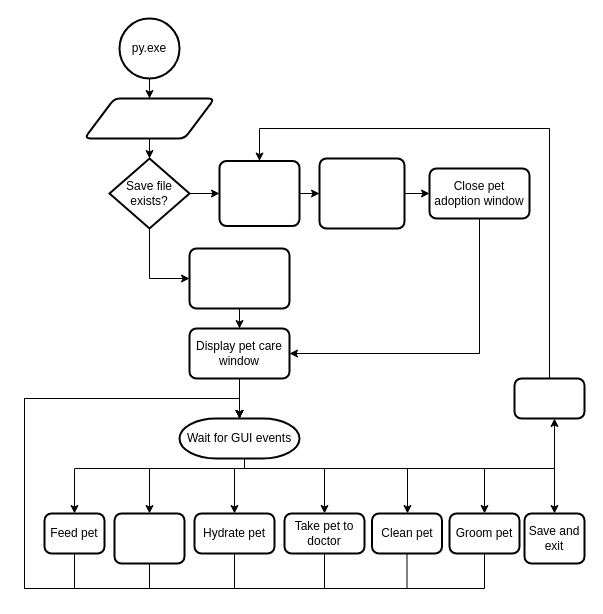
The diagram is 603 pixels wide and 614 high, and some of its shapes have lost their labels. Each missing label, with the box of its shape:
Display pet adpotion window: (218, 160, 300, 226)
New pet: (513, 377, 585, 419)
Play with pet: (113, 512, 185, 564)
Read save file: (83, 97, 215, 139)
Set state variables based on user input: (318, 157, 405, 229)
Use current date to update state variables: (188, 247, 290, 309)
